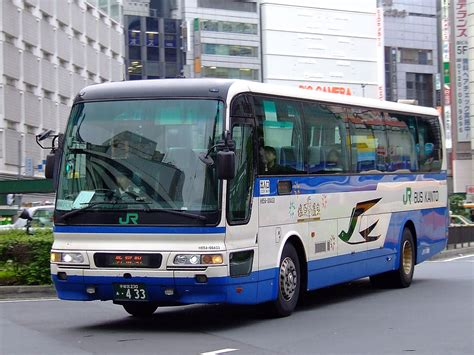bus: (53, 84, 449, 311)
